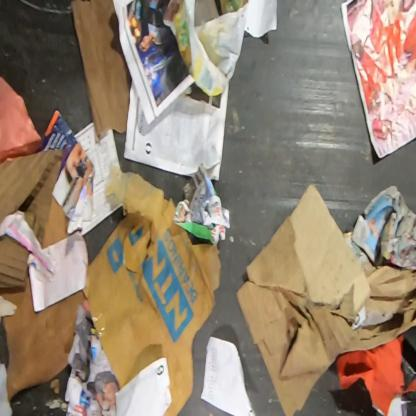cardboard: (235, 182, 415, 415), (84, 164, 220, 415), (0, 236, 87, 400), (72, 0, 132, 139), (0, 146, 69, 248)
soft_plastic: (163, 0, 248, 98), (0, 76, 41, 164)
